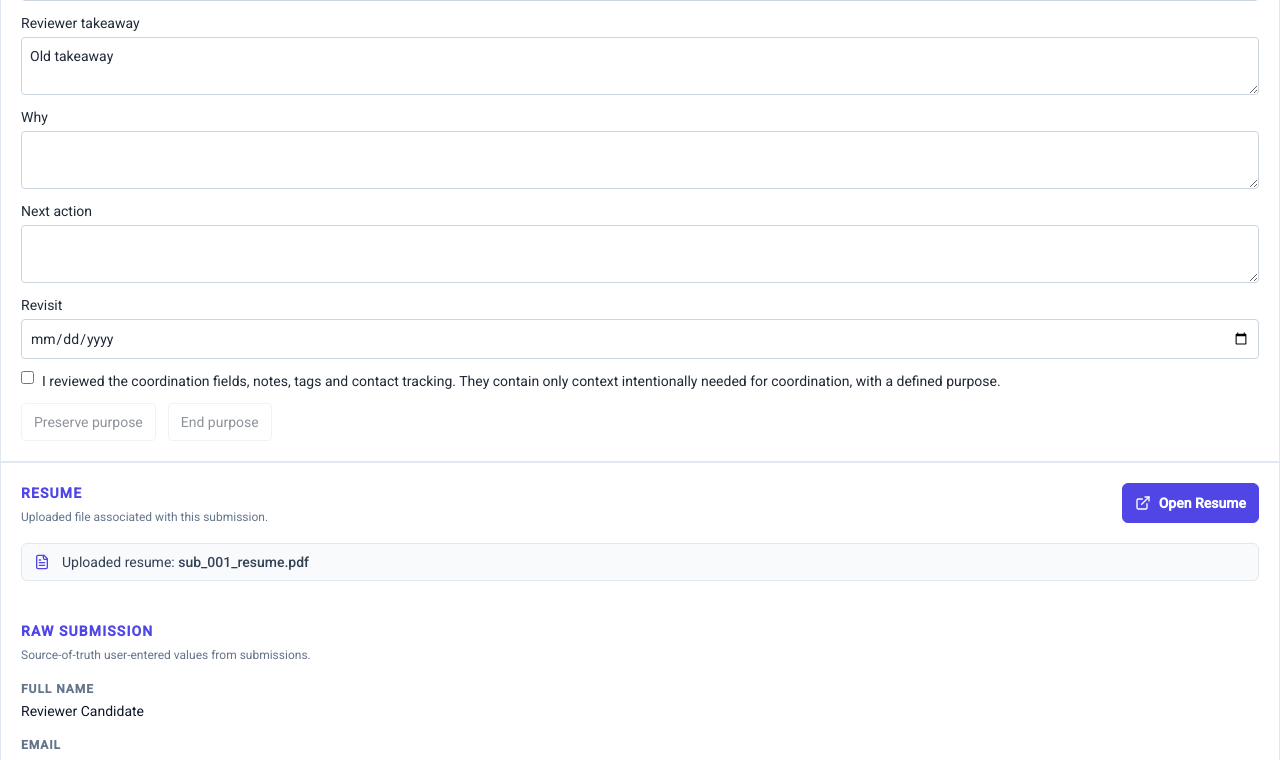
Test: InboxDetailPanel resume access › refreshes coordination content and purpose state for the same selected submission
(page scrolled)
Click the checkbox at (28, 378), box [21, 371, 34, 384]
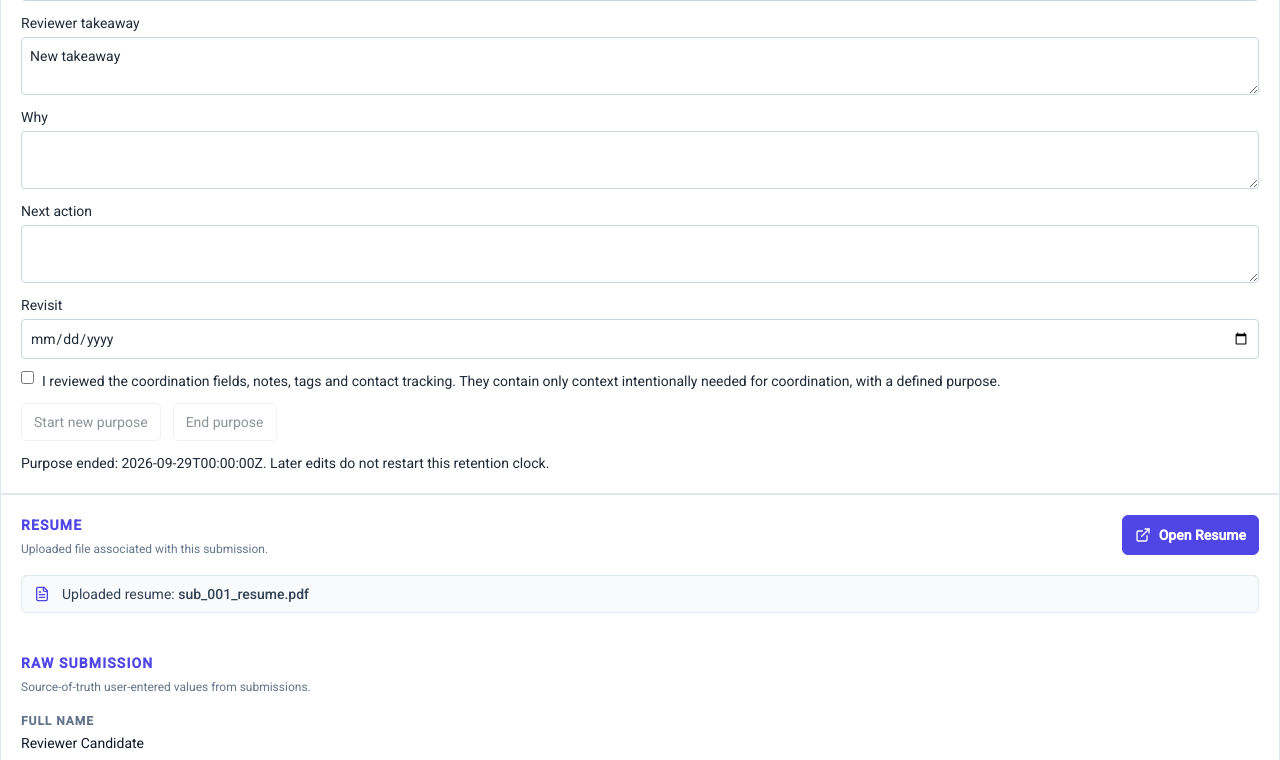
expect the button "Start new purpose" is disabled: met, box [21, 403, 161, 441]
expect the text "2026-09-29T00:00:00Z" is shown: met, box [122, 455, 263, 471]
